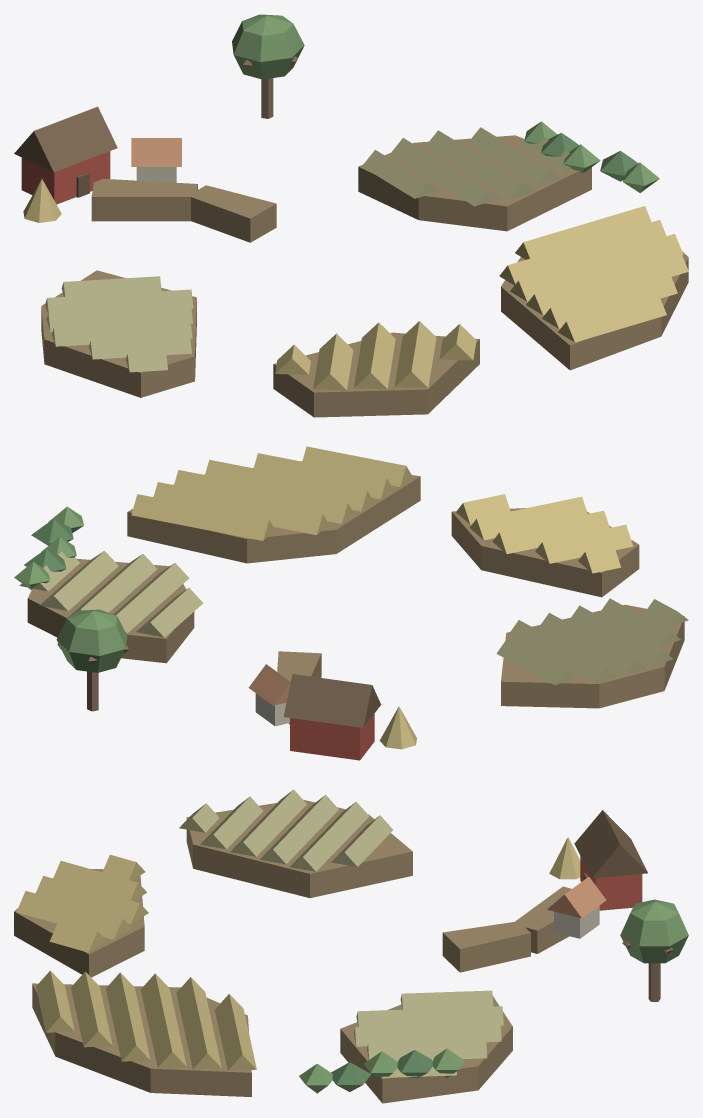
The model's file is farm-plains.glb.
The picture shows the model from 3 angles, top to bottom: view 1: azimuth 30°, elevation 25°; view 2: azimuth 150°, elevation 25°; view 3: azimuth 270°, elevation 25°; orthographic projection. The views are drawn at different scales.
Visible parts, largest first — view 1: LOD0; view 2: LOD0; view 3: LOD0.
Boxes of the visible parts, x1,y1,x2,y2 form: LOD0: (14, 14, 688, 417); LOD0: (14, 446, 688, 760); LOD0: (14, 789, 688, 1103).
Size of what is drawn, in the model's own units: 1.61 by 0.29 by 1.56.
